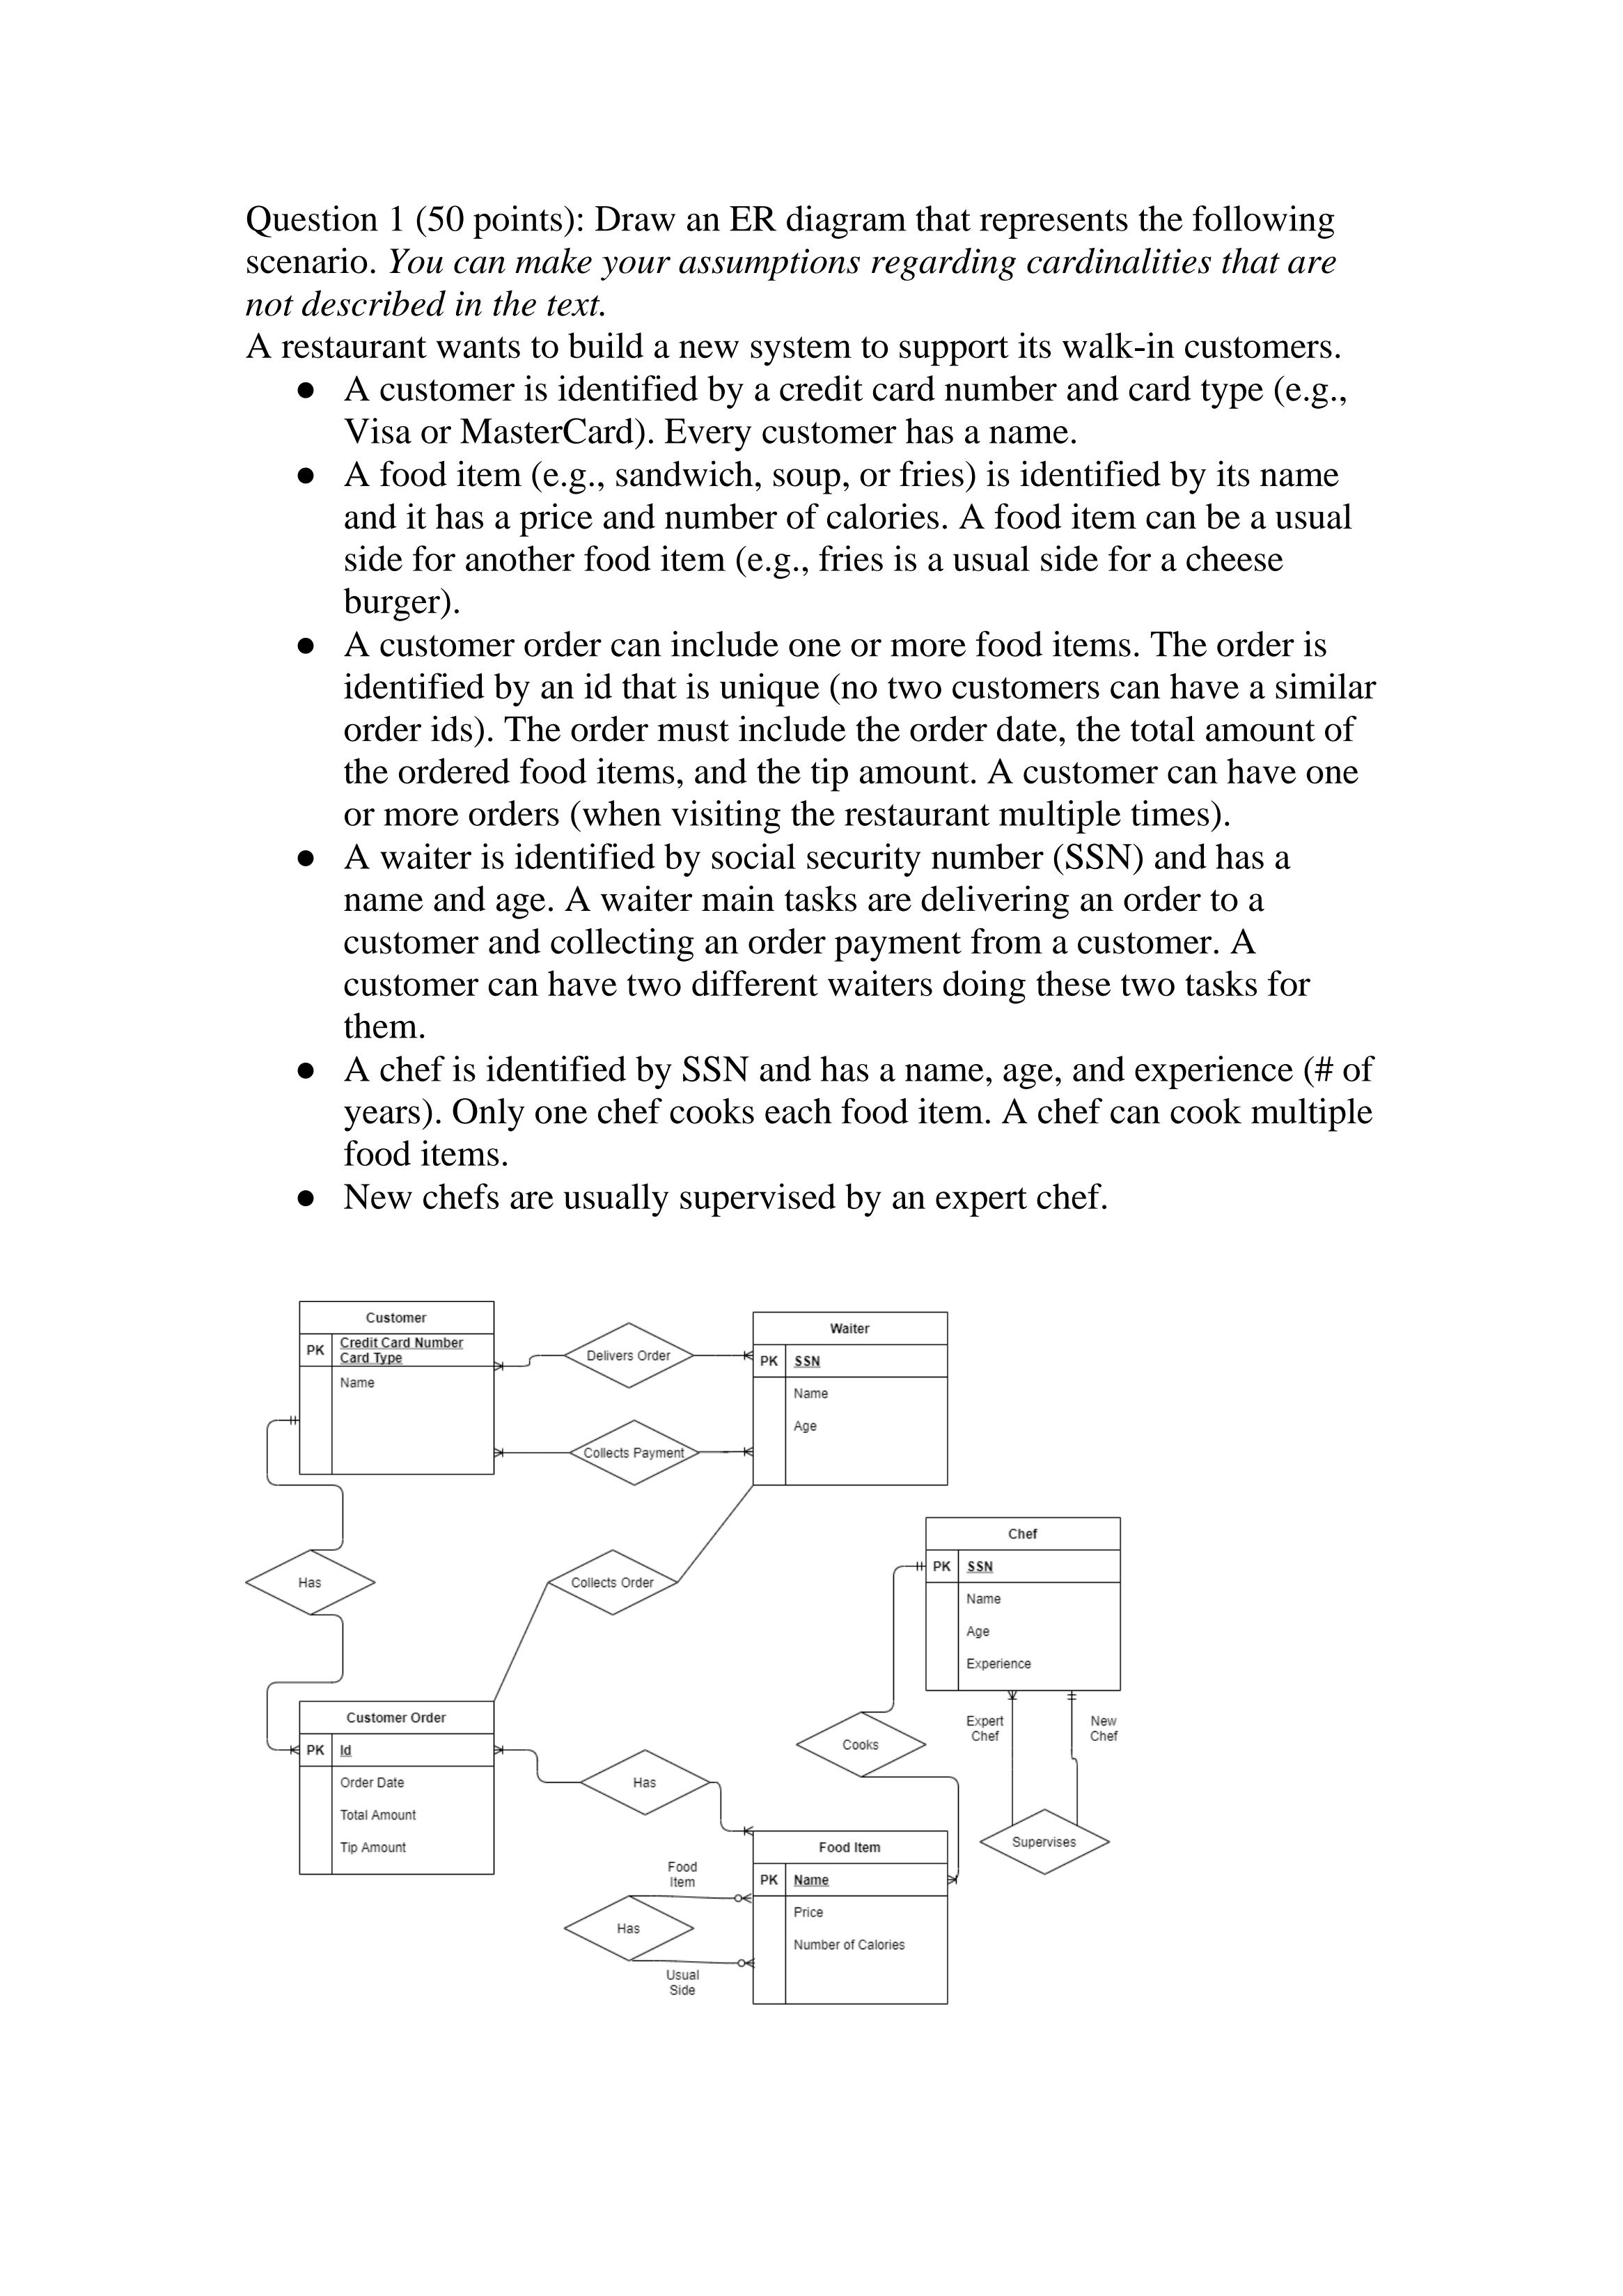Entity: (752, 1829, 950, 2006), (297, 1699, 495, 1876), (752, 1310, 949, 1488), (297, 1300, 495, 1476), (924, 1516, 1122, 1692)
Relationship: (569, 1418, 701, 1486), (794, 1711, 927, 1778), (564, 1321, 694, 1390), (978, 1809, 1112, 1874), (562, 1895, 696, 1960), (546, 1549, 678, 1614), (244, 1549, 376, 1614), (581, 1748, 710, 1815)
